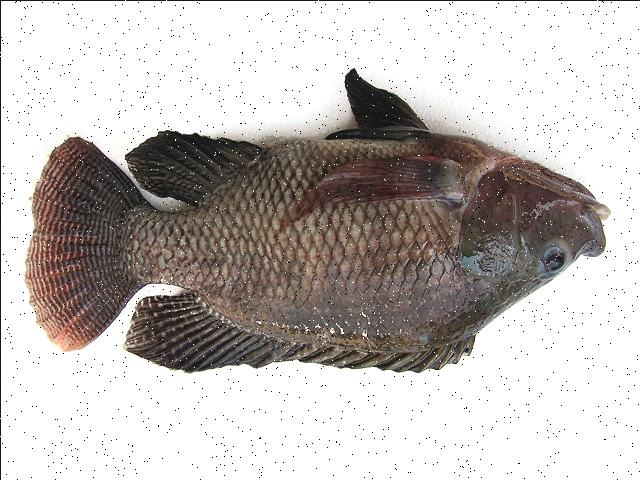Mulut: (576, 180, 624, 272)
Sirip Anal: (116, 116, 256, 216)
Sirip Dada: (266, 151, 466, 233)
Sirip Ekor: (21, 128, 131, 356)
Sirip Perut: (320, 54, 428, 150)
Sirip Punggung: (120, 285, 483, 391)
